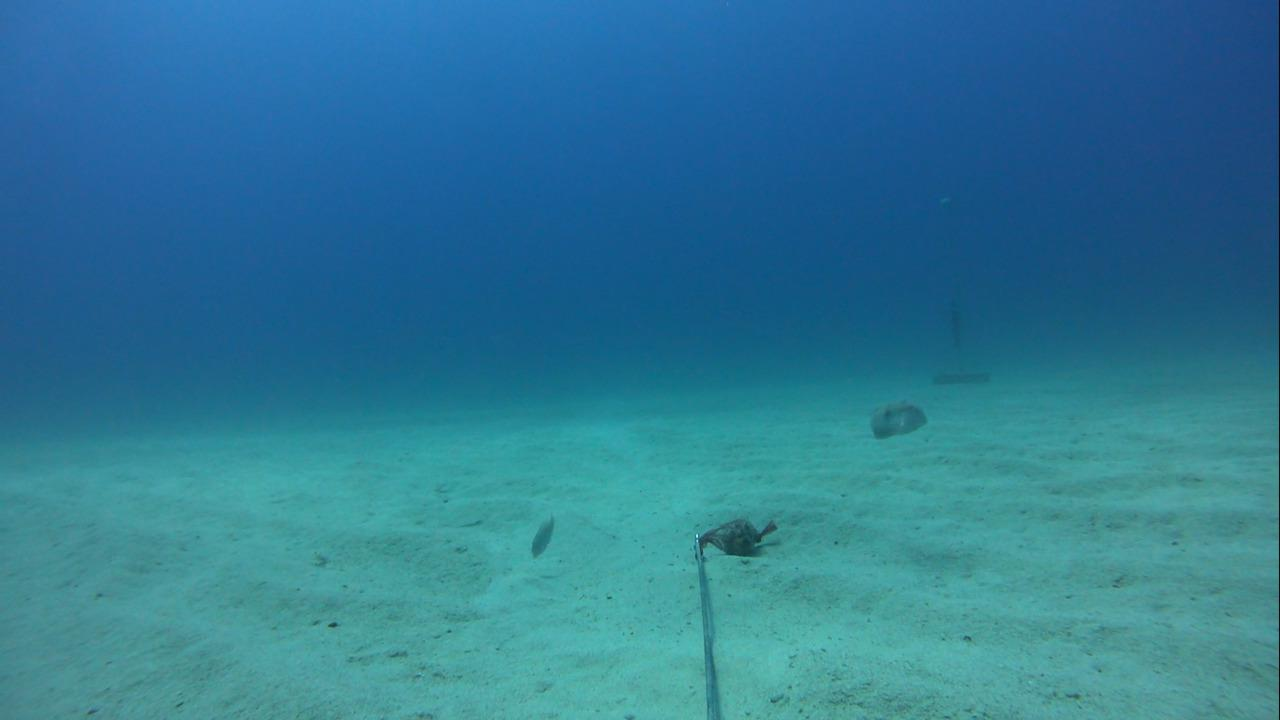raor: (860, 389, 932, 449), (515, 503, 564, 569)
